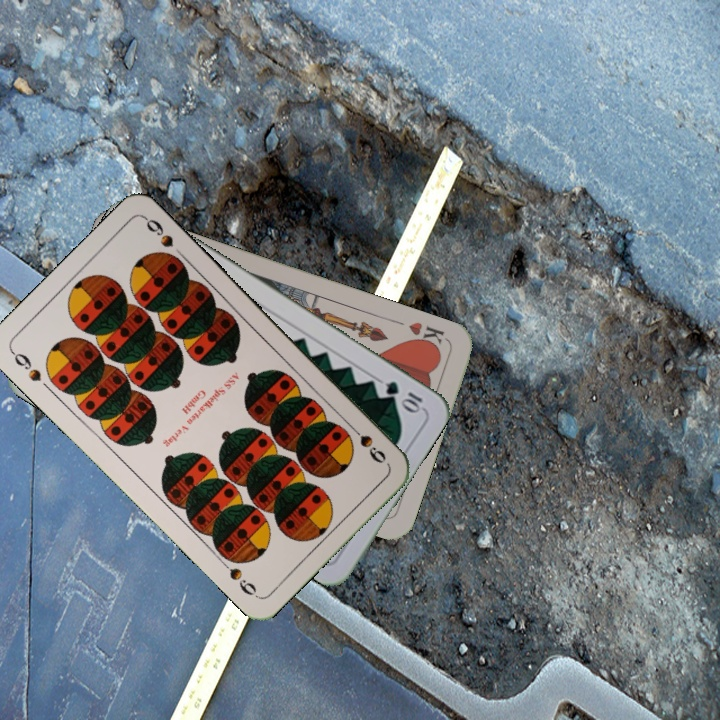G10: (381, 376, 426, 415)
HK: (405, 317, 447, 352)
S9: (344, 419, 389, 466), (7, 347, 44, 385)
